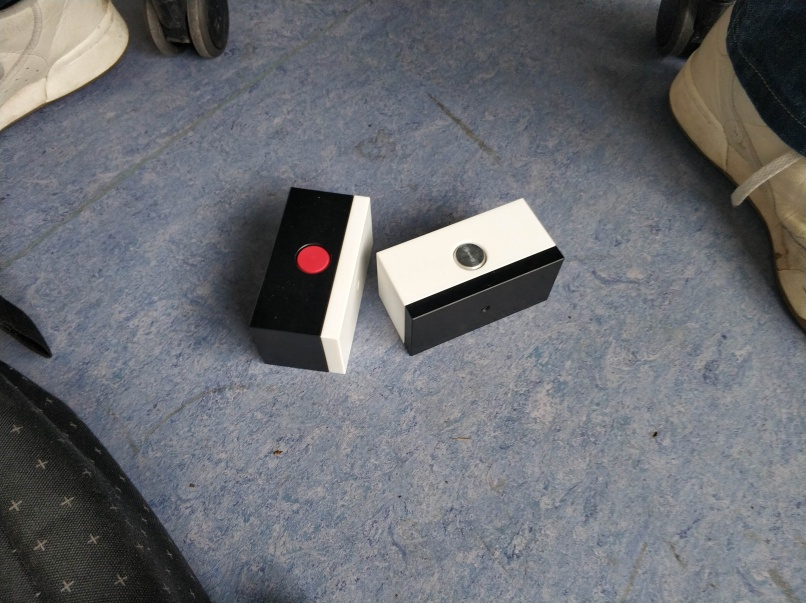black+white+silver: (377, 194, 568, 358)
white+black+red: (251, 184, 376, 378)
